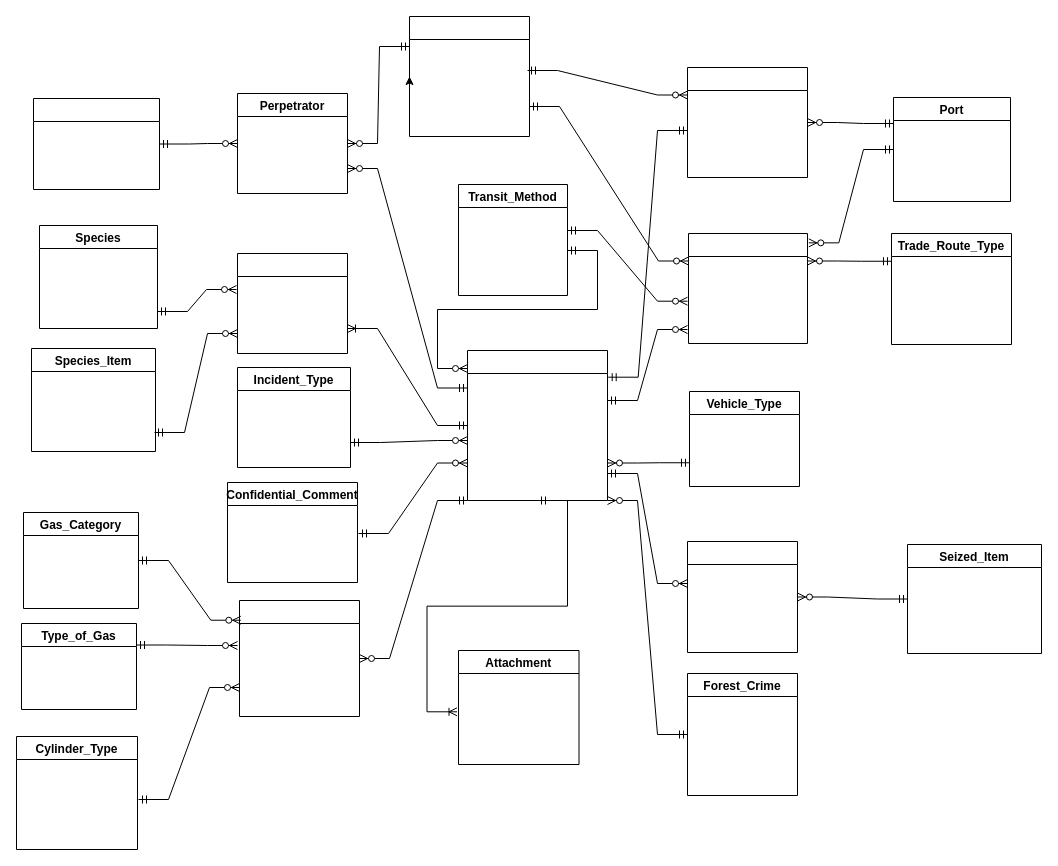
This 1058x866 diagram has some shape labels left out. The centre of each missing label's shape, as x and y in pixels:
"Country" goes at (x=469, y=76).
"Fine_Currency" goes at (x=96, y=144).
"Incident" goes at (x=537, y=425).
"Incident_Location" goes at (x=747, y=122).
"Other_Item_Seized" goes at (x=742, y=596).
"Refrigerant_Gas" goes at (x=299, y=658).
"Species_Detail" goes at (x=292, y=303).
"Trade_Route" goes at (x=748, y=288).
